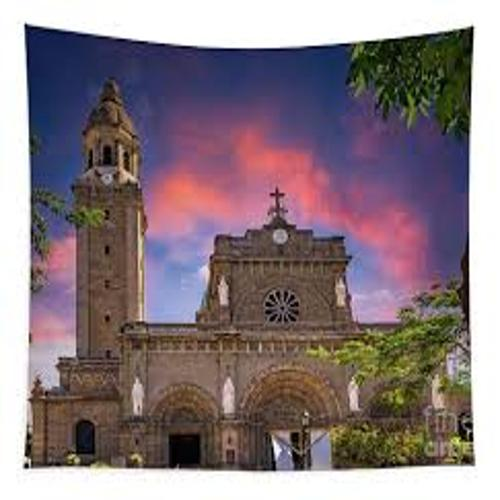Manila Cathedral Church: (40, 70, 459, 456)
